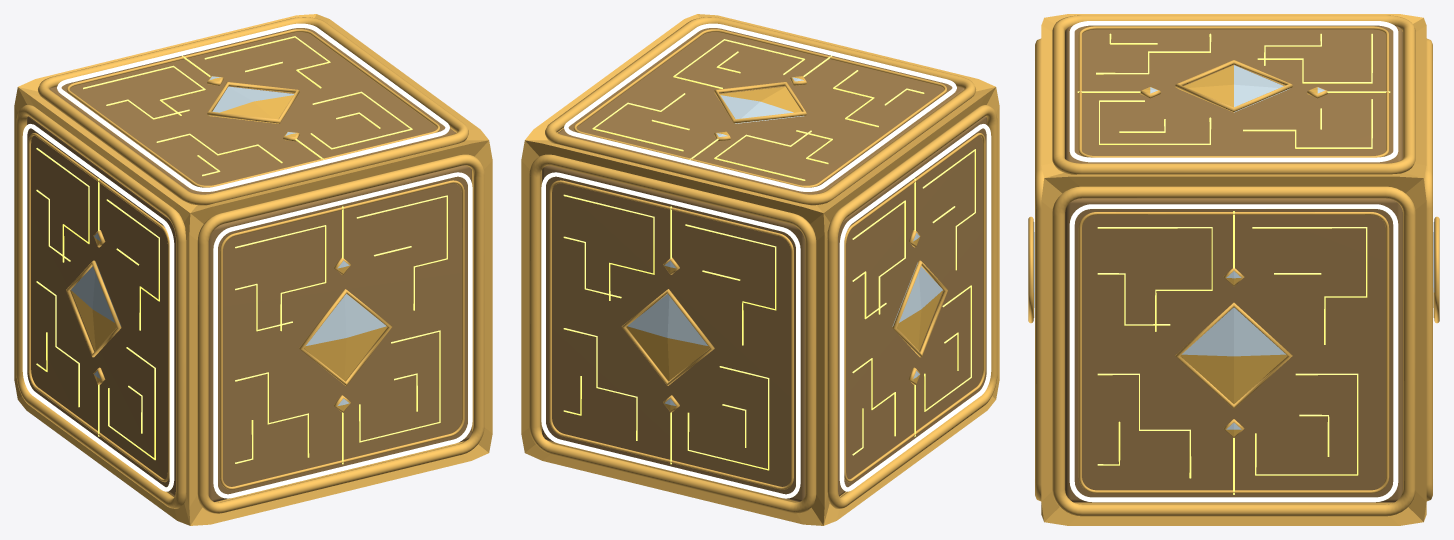
Rendered from golden-cube.glb.
3 renders of one model, left to right at view 1: azimuth 30°, elevation 25°; view 2: azimuth 150°, elevation 25°; view 3: azimuth 270°, elevation 25°, orthographic. The views are drawn at different scales.
Visible parts, largest first — view 1: Layer_front_metal, Layer_left_metal, Layer_top_metal, Layer_front_gold, Layer_left_gold, Layer_top_gold, Layer_front_shell, Layer_front_rim, Layer_left_shell, Layer_left_rim, Layer_top_shell, Layer_top_rim (+6 smaller); view 2: Layer_back_metal, Layer_left_metal, Layer_top_metal, Layer_back_gold, Layer_left_gold, Layer_top_gold, Layer_back_shell, Layer_back_rim, Layer_left_shell, Layer_left_rim, Layer_top_shell, Layer_top_rim (+6 smaller); view 3: Layer_right_metal, Layer_top_metal, Layer_right_gold, Layer_right_shell, Layer_top_gold, Layer_right_rim, Layer_top_shell, right_center_crystal, Layer_top_rim, Layer_back_gold, Layer_front_gold, Layer_right_circuits (+2 smaller).
Part boxes in pixels (x1,y1,x2,y2): Layer_front_metal: (208,165,471,501); Layer_left_metal: (27,116,175,496); Layer_top_metal: (49,28,455,194); Layer_front_gold: (197,154,484,513); Layer_left_gold: (16,105,186,508); Layer_top_gold: (38,17,468,205); Layer_front_shell: (189,140,492,525); Layer_front_rim: (213,172,472,498); Layer_left_shell: (14,87,190,525); Layer_left_rim: (22,124,174,491); Layer_top_shell: (18,14,488,212); Layer_top_rim: (57,23,449,191); Layer_back_metal: (542,165,805,501); Layer_left_metal: (838,116,986,496); Layer_top_metal: (558,28,964,194); Layer_back_gold: (529,154,816,513); Layer_left_gold: (827,105,997,508); Layer_top_gold: (545,17,975,205); Layer_back_shell: (521,140,824,525); Layer_back_rim: (541,172,800,498); Layer_left_shell: (823,87,999,525); Layer_left_rim: (839,124,991,491); Layer_top_shell: (525,14,995,212); Layer_top_rim: (564,23,956,191); Layer_right_metal: (1065,198,1402,502); Layer_top_metal: (1065,26,1402,163); Layer_right_gold: (1052,186,1415,516); Layer_right_shell: (1041,176,1426,525); Layer_top_gold: (1052,15,1415,174); Layer_right_rim: (1069,204,1398,502); Layer_top_shell: (1041,14,1426,177); right_center_crystal: (1180,307,1287,403); Layer_top_rim: (1069,21,1398,162); Layer_back_gold: (1424,38,1439,501); Layer_front_gold: (1028,38,1043,501); Layer_right_circuits: (1097,211,1367,494).
Size of the model in its own units: 2.26 by 2.26 by 2.26.
